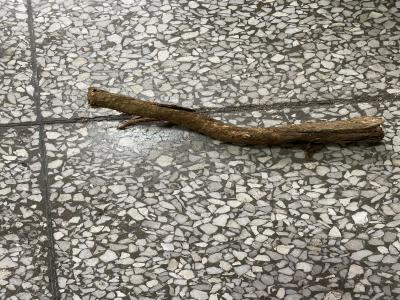Root: (87, 87, 384, 160)
